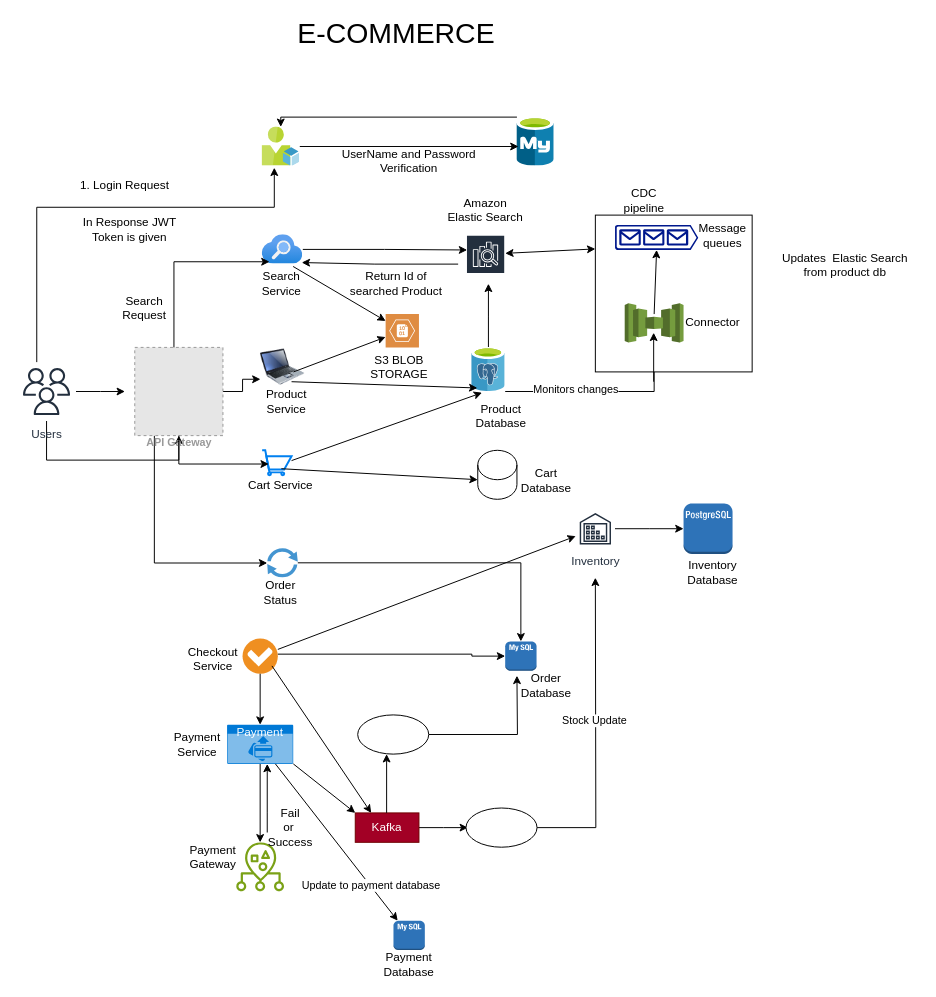
Some shapes in this 936 by 997 pixel diagram are drawn without their labels. Grey dashed boxes stand in for pictures. Each missing label, with the centre of its shape:
"Inventory Consumer" goes at point (501, 827).
"Order Consumer" goes at point (393, 734).
